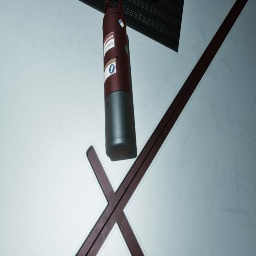NitrogenTank ,: (102, 0, 135, 159)
